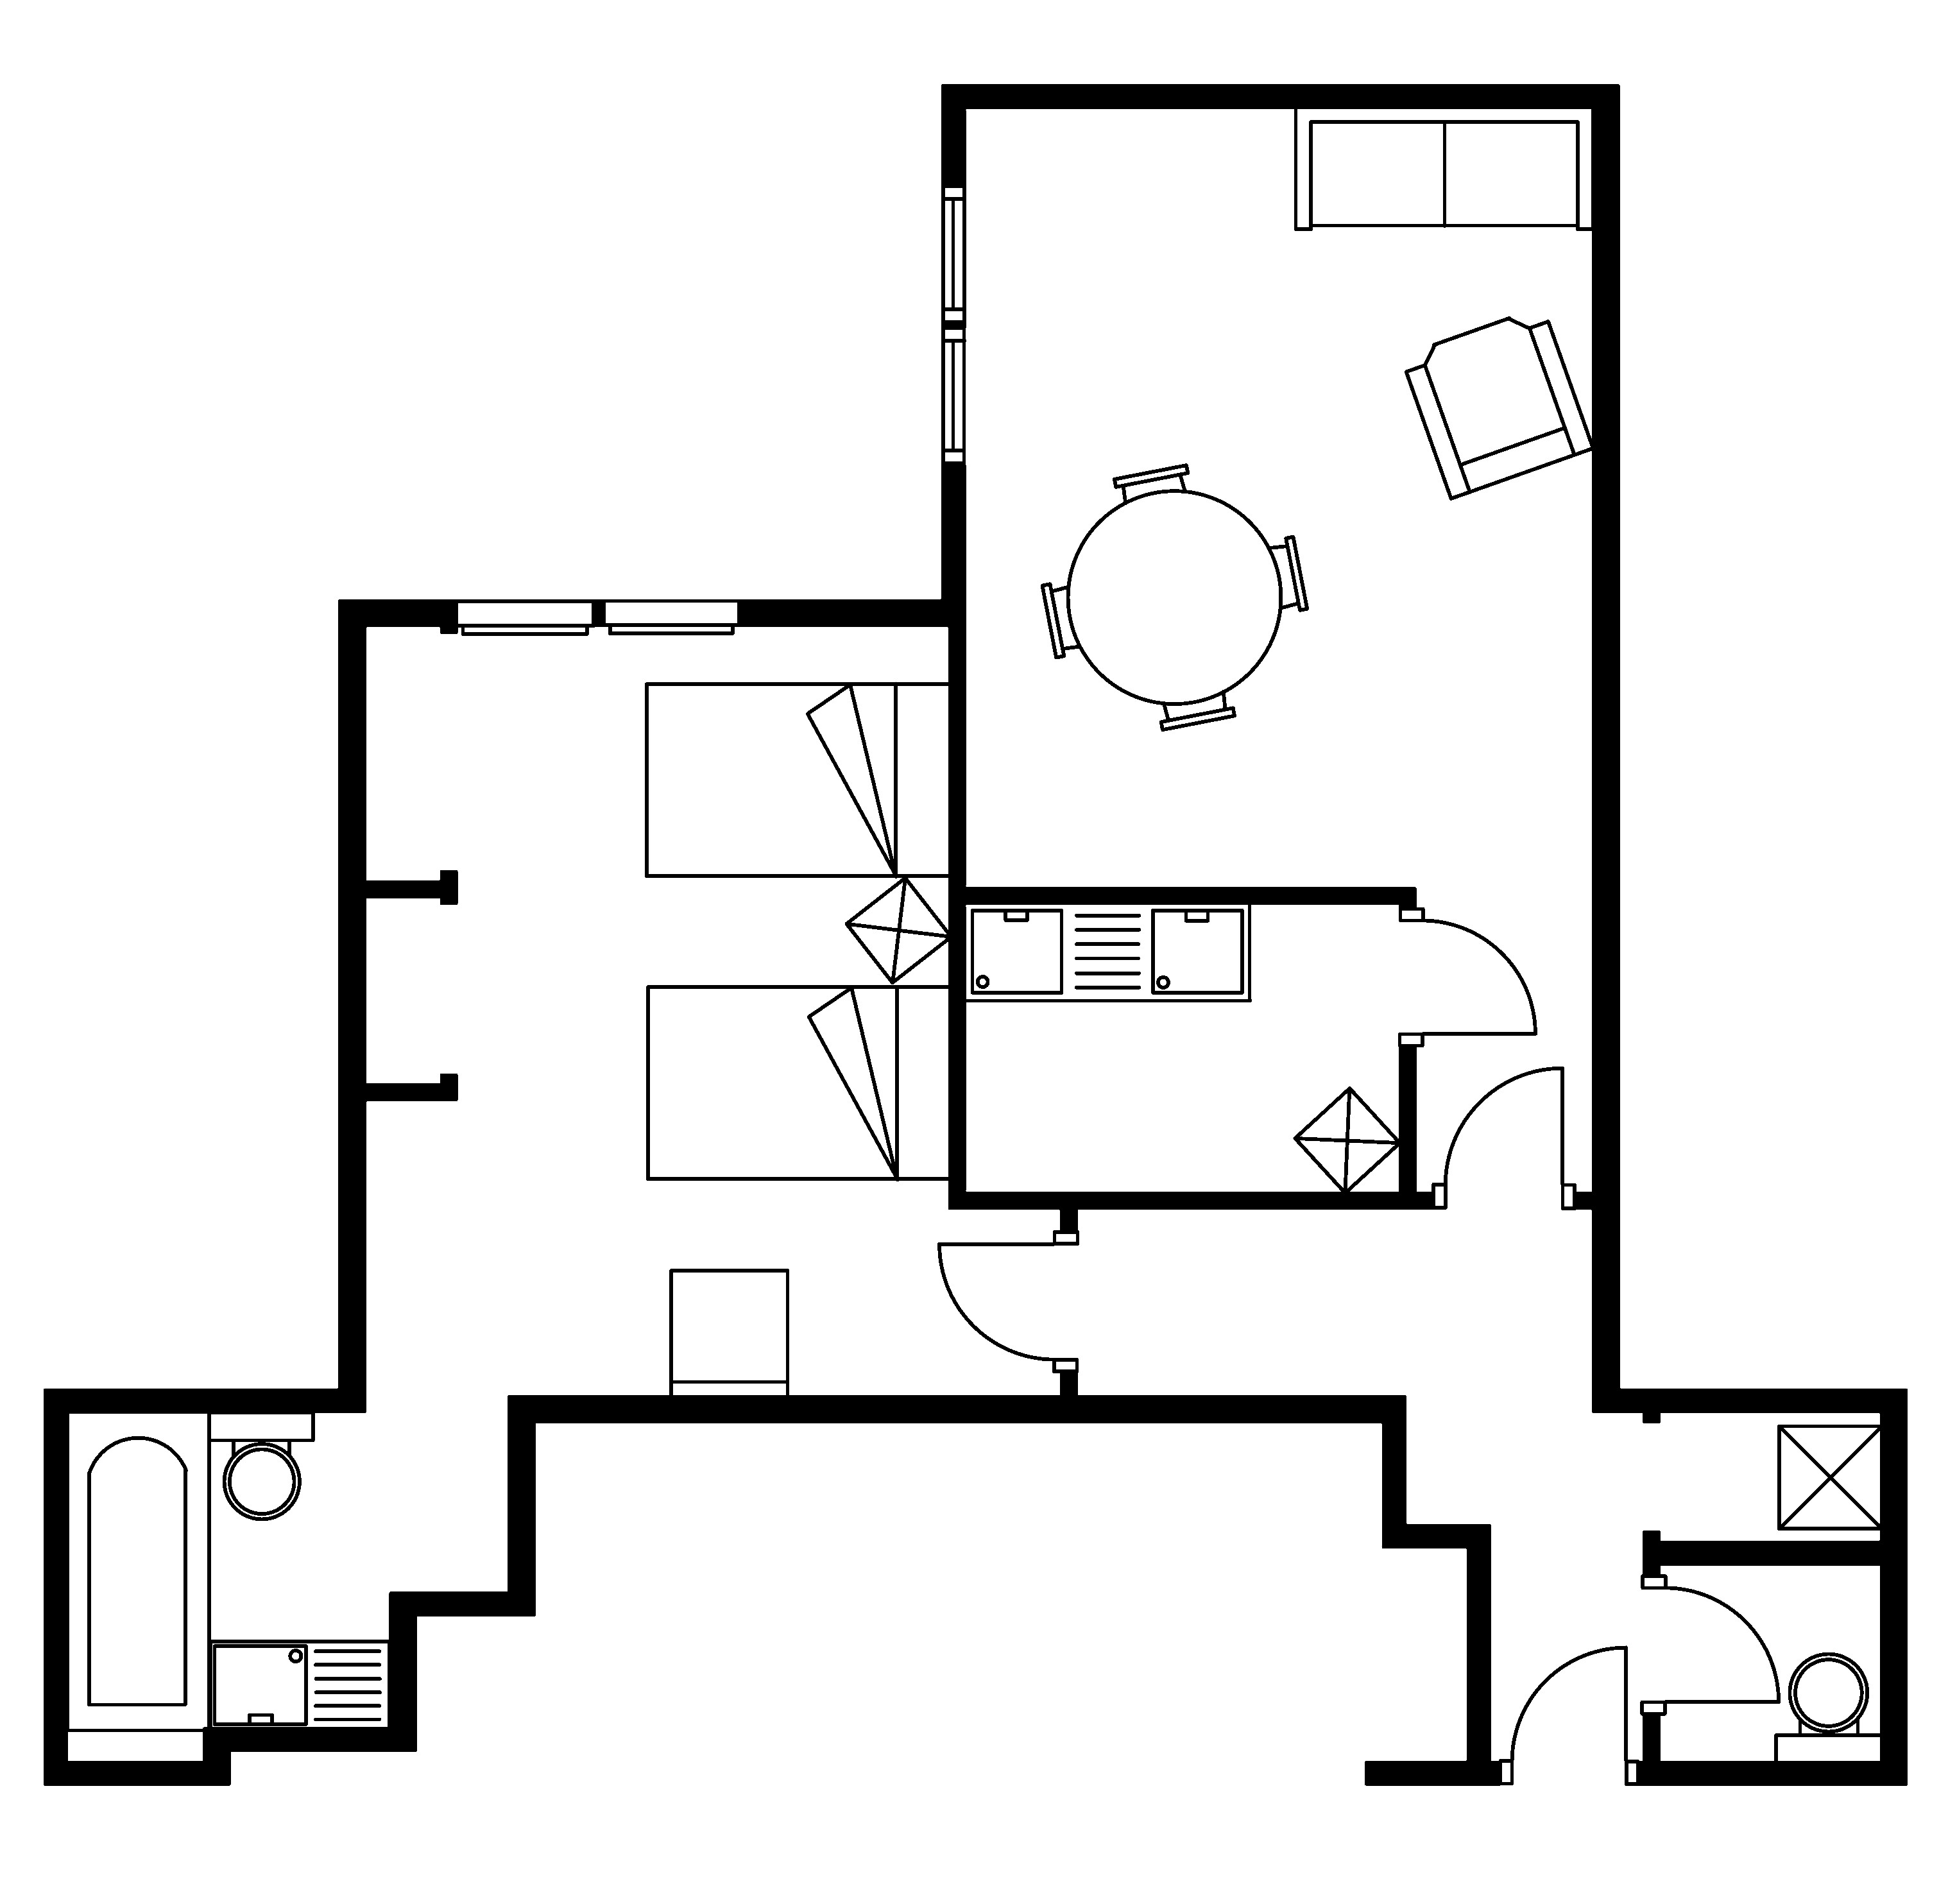armchair: (1404, 316, 1596, 500)
bed: (644, 680, 952, 879), (645, 983, 954, 1182)
coffee_table: (1292, 1085, 1402, 1194), (844, 875, 952, 985), (1775, 1423, 1883, 1531)
large_sink: (1774, 1653, 1885, 1766), (206, 1411, 316, 1520)
large_sofa: (1292, 105, 1596, 230)
round_table: (1039, 462, 1310, 732)
sink: (208, 1639, 391, 1731)
small_sofa: (668, 1268, 790, 1402)
tub: (65, 1409, 211, 1733)
twin_sink: (961, 900, 1252, 1003)
